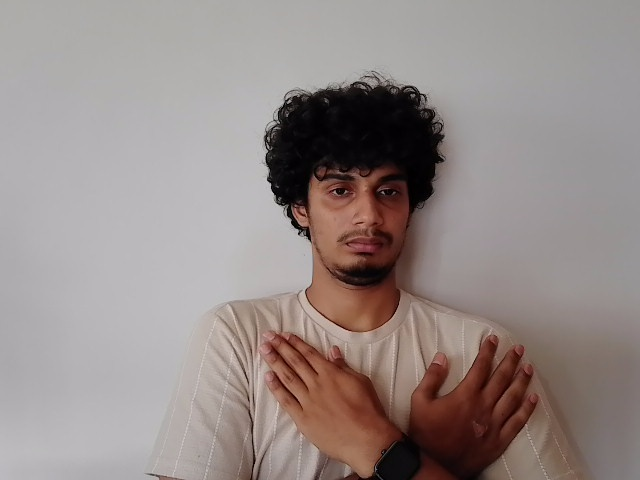relaxing: (258, 330, 536, 462)
